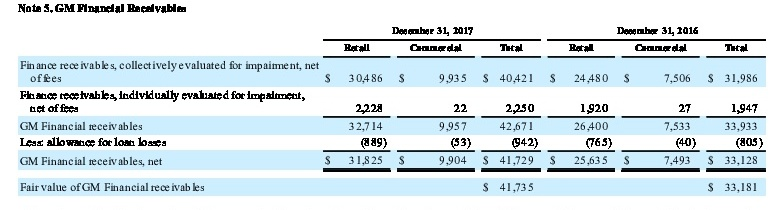table: (0, 0, 781, 210)
